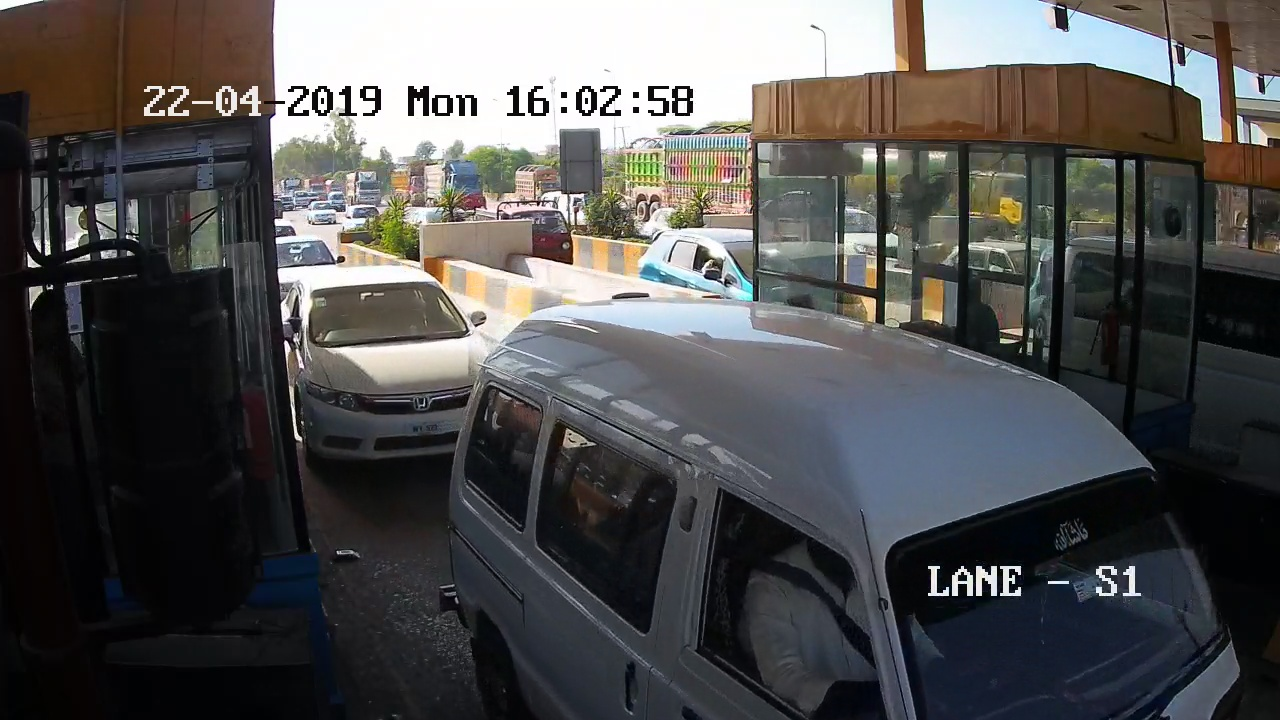car: (479, 307, 1199, 720)
